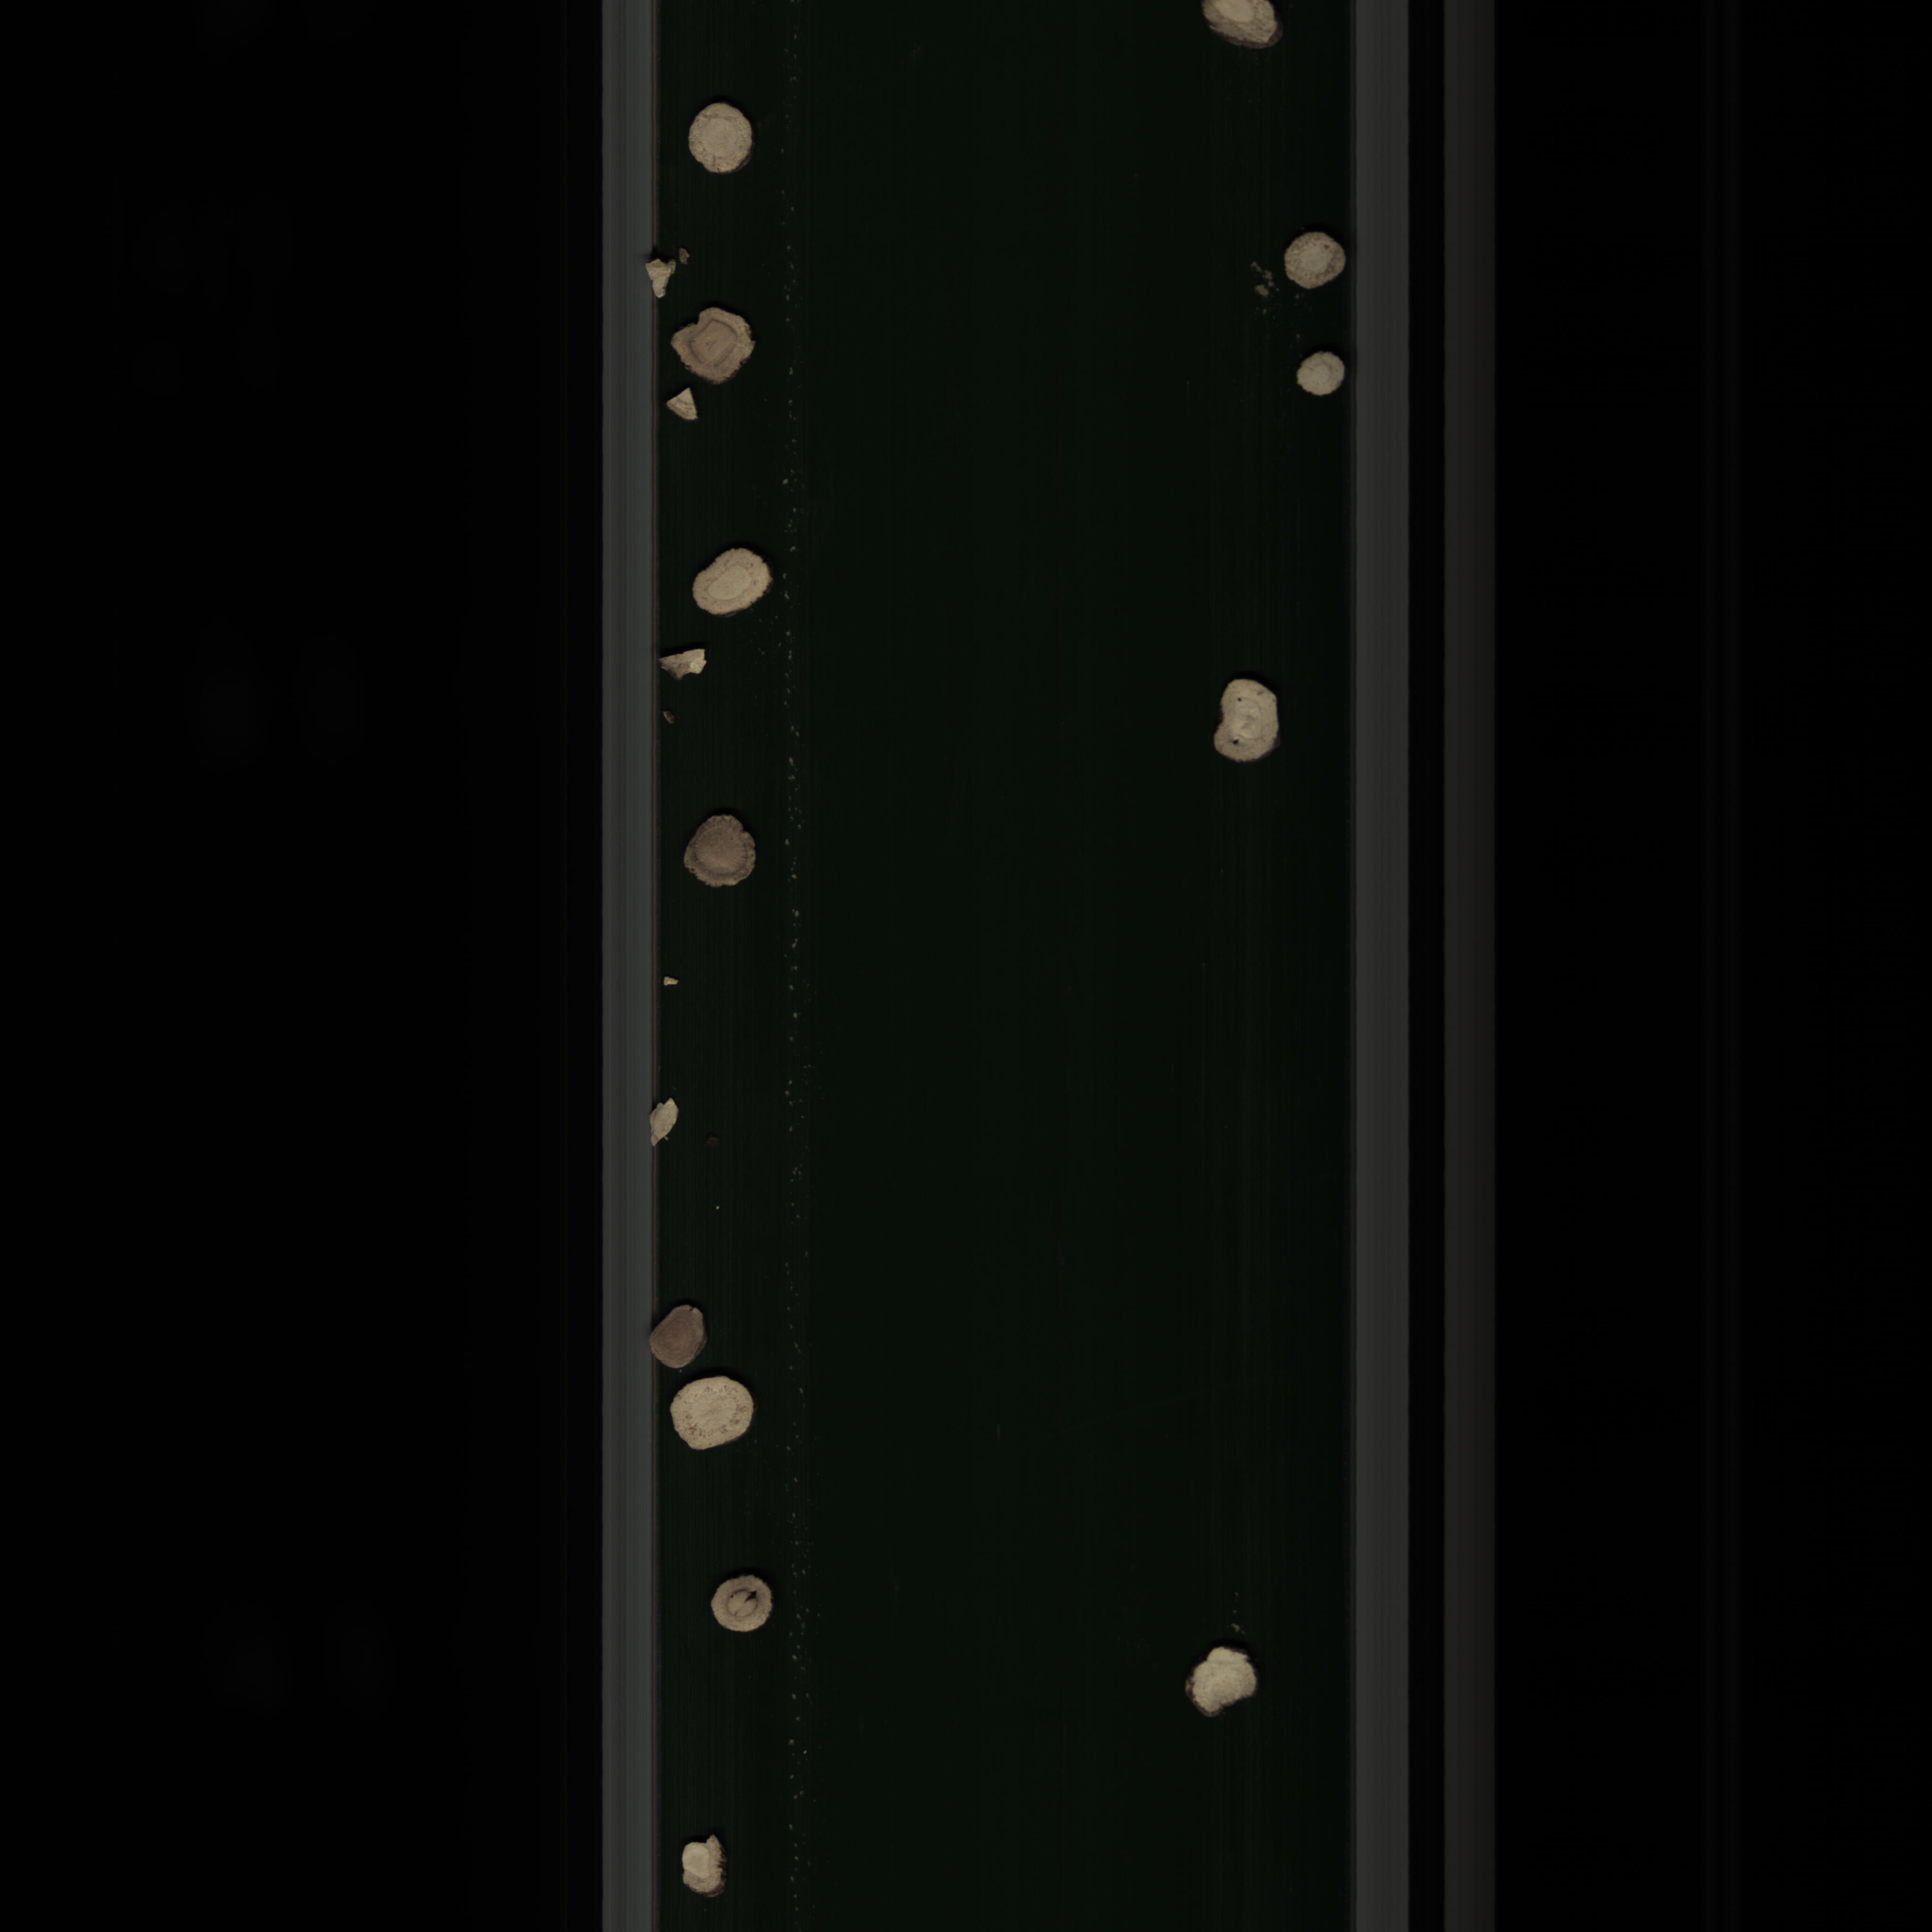debris: (1180, 1640, 1267, 1725), (674, 1828, 736, 1909), (633, 246, 701, 304), (658, 646, 718, 686), (642, 1093, 676, 1150)
distortion: (667, 308, 757, 387)
hole: (1208, 671, 1297, 771), (699, 1568, 784, 1644)
moldy: (646, 1302, 711, 1373)
